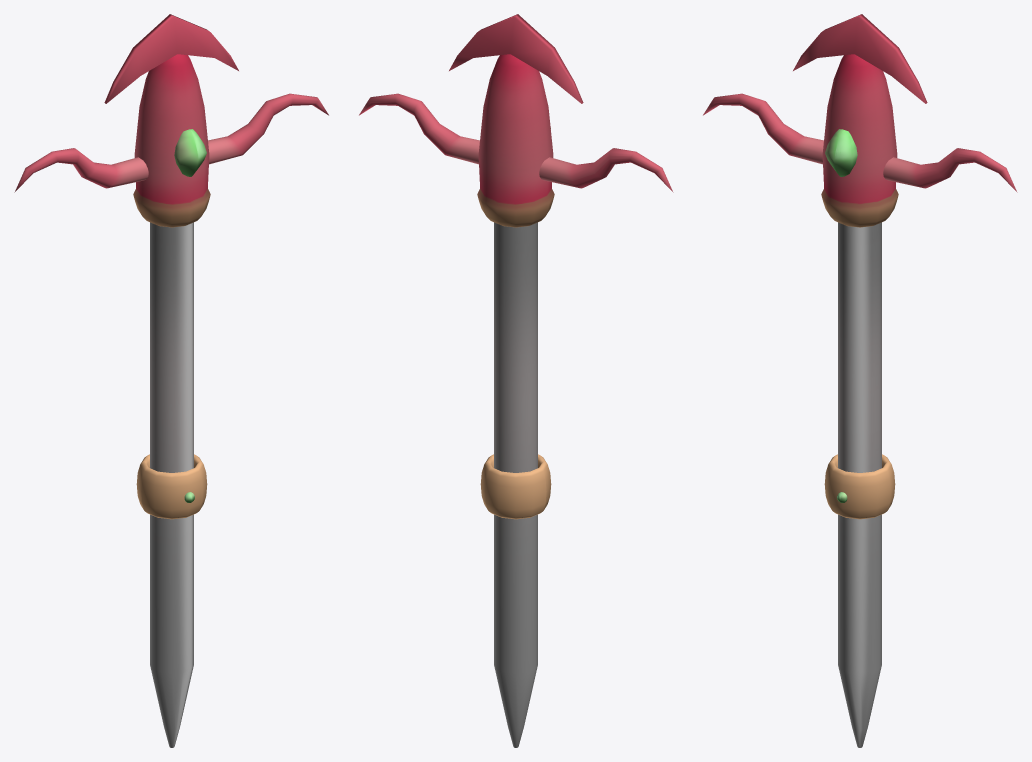
File: TranspositioWand.fbx
3 renders of one model, left to right at view 1: azimuth 30°, elevation 25°; view 2: azimuth 150°, elevation 25°; view 3: azimuth 330°, elevation 25°, orthographic.
Parts seen in each view (by area): view 1: Cylinder; view 2: Cylinder; view 3: Cylinder.
Boxes of the visible parts, x1,y1,x2,y2 form: Cylinder: [14, 14, 328, 747]; Cylinder: [359, 14, 673, 747]; Cylinder: [703, 14, 1017, 747].
Size of the model in its own units: 558 by 1236 by 140.
Materials: 1 (1 with a texture image).
